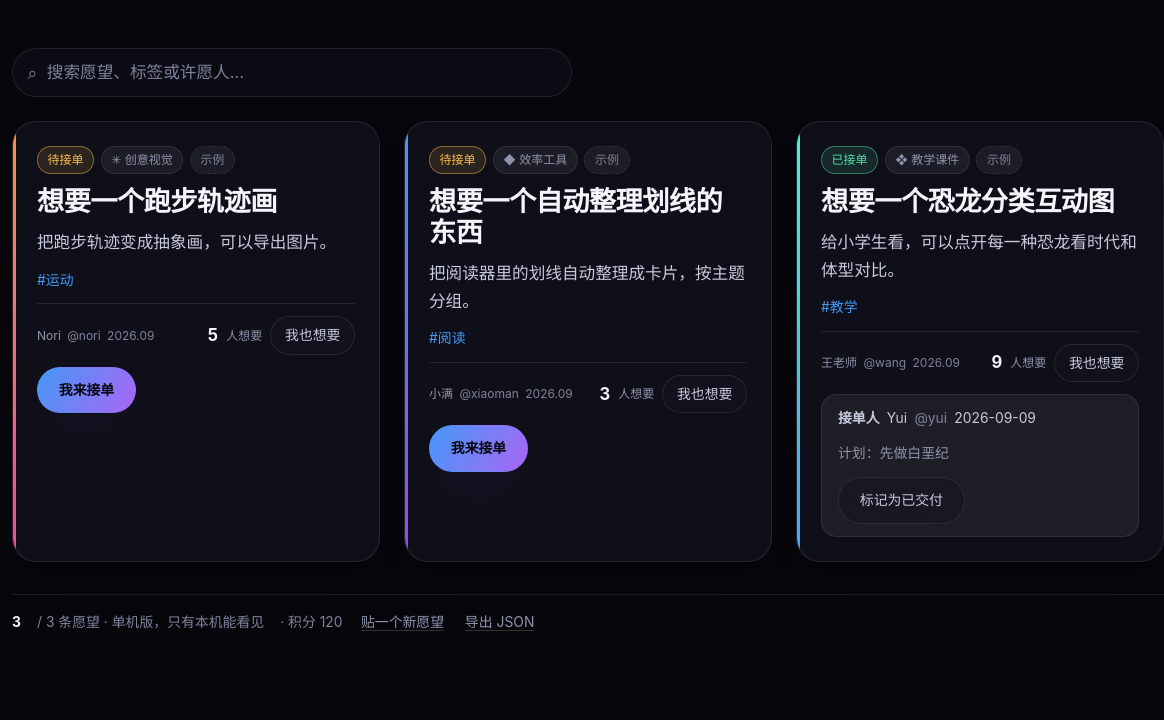
WishesPage › 可以给愿望加一个“我也想要”
The image size is (1164, 720).
Click the button "我也想要" in the row of "xiaoman".
click(705, 394)  # box [662,375,747,414]
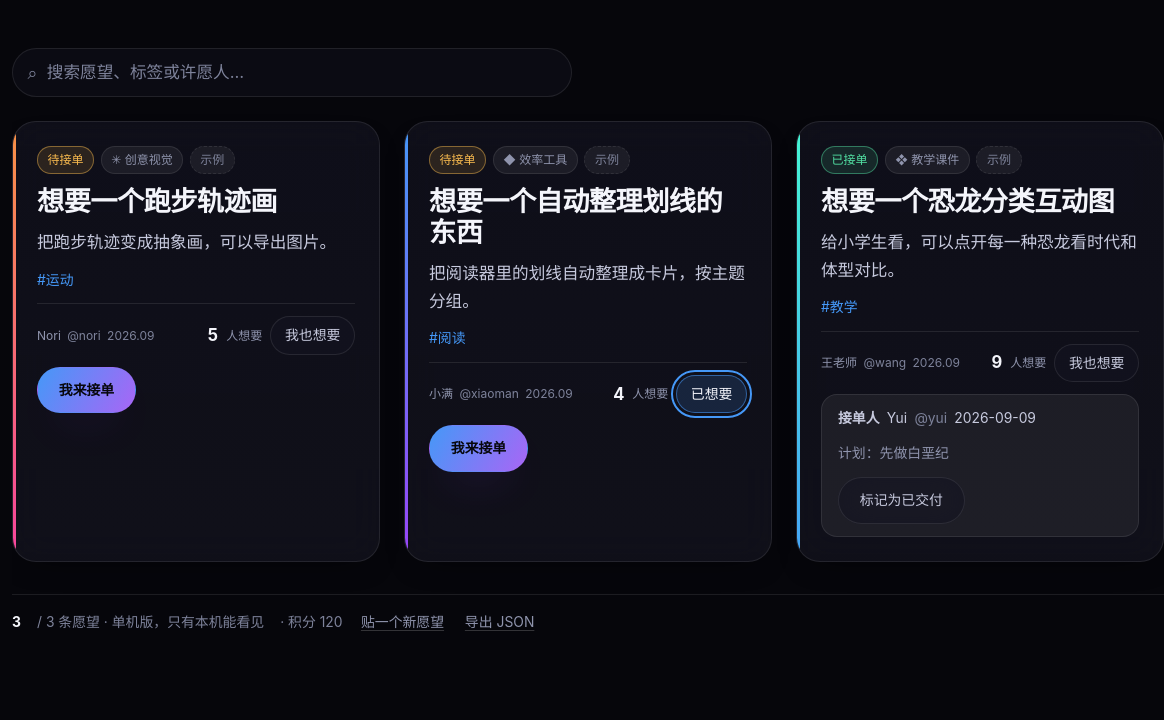
Result: the element with test id "wish-cheers-seed-one" shows "4 人想要" at [613,375,747,414]
